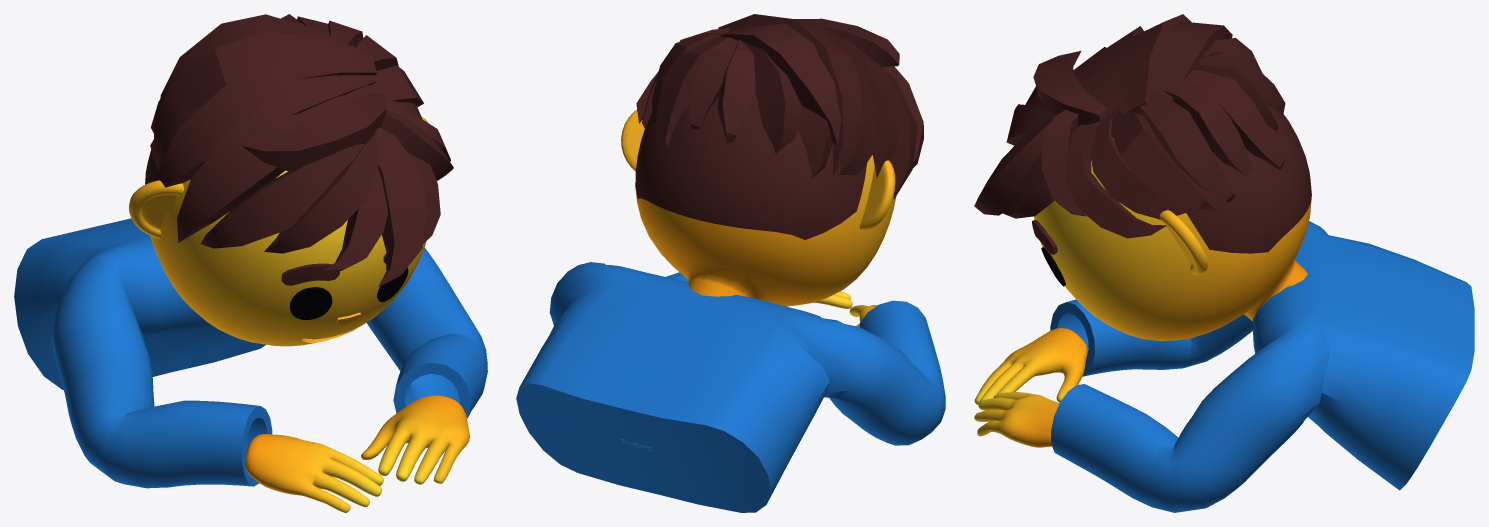
File: person_bowing.fbx
3 renders of one model, left to right at view 1: azimuth 30°, elevation 25°; view 2: azimuth 150°, elevation 25°; view 3: azimuth 270°, elevation 25°, orthographic. The views are drawn at different scales.
Visible parts, largest first — view 1: Cube.772, Circle.489, Roundcube.061, hand.115, hand.117, ears.052, Circle.485, Circle.488; view 2: Circle.489, Roundcube.061, Cube.772, ears.052; view 3: Circle.489, Cube.772, Roundcube.061, hand.115, hand.117, ears.052.
Boxes of the visible parts, left/top/right/bottom form: Cube.772: left=150, top=14, right=453, bottom=286; Circle.489: left=14, top=218, right=487, bottom=488; Roundcube.061: left=145, top=150, right=426, bottom=346; hand.115: left=245, top=434, right=383, bottom=512; hand.117: left=361, top=395, right=469, bottom=484; ears.052: left=129, top=117, right=427, bottom=238; Circle.485: left=290, top=268, right=408, bottom=319; Circle.488: left=281, top=253, right=386, bottom=285; Circle.489: left=516, top=262, right=945, bottom=512; Roundcube.061: left=621, top=90, right=896, bottom=451; Cube.772: left=636, top=14, right=923, bottom=199; ears.052: left=621, top=109, right=895, bottom=230; Circle.489: left=1050, top=221, right=1474, bottom=512; Cube.772: left=974, top=14, right=1285, bottom=238; Roundcube.061: left=1034, top=104, right=1311, bottom=340; hand.115: left=974, top=328, right=1087, bottom=404; hand.117: left=974, top=392, right=1059, bottom=447; ears.052: left=1157, top=210, right=1207, bottom=274.
Size of the model in its own units: 199 by 209 by 229.
Materials: 2 (2 with a texture image).
